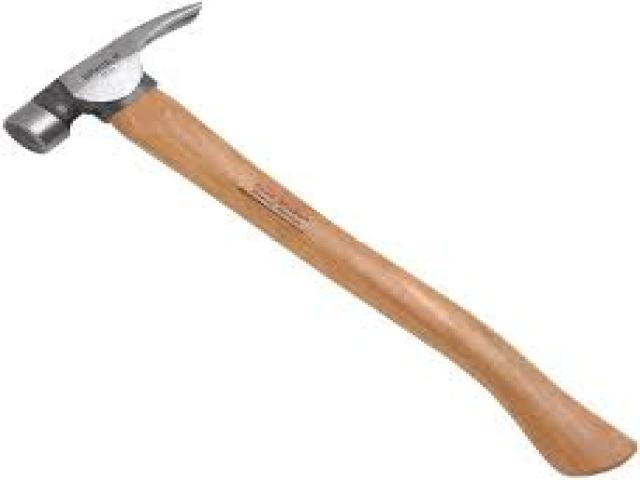Hammer: (6, 3, 632, 474)
